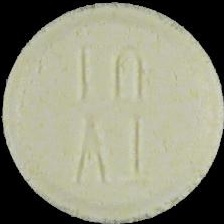55154-8298: (0, 0, 224, 224)
